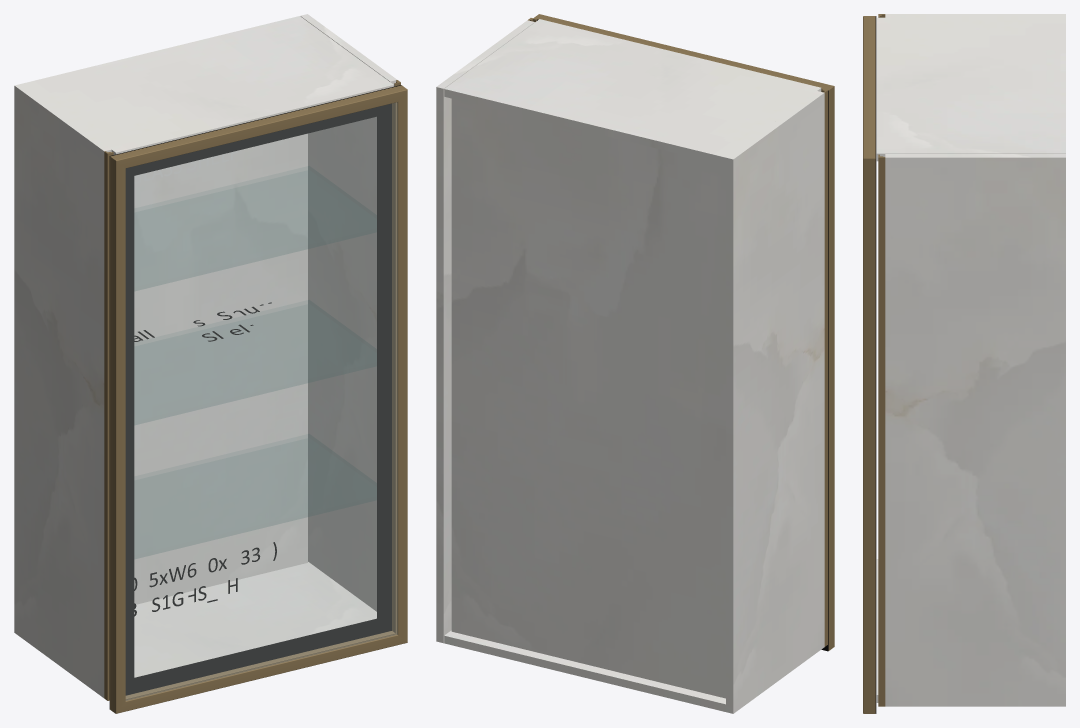
File: WC-SH-NHX-GL-3SG-LHS-XXX-600-1085-336-15.glb
The picture shows the model from 3 angles, left to right: view 1: azimuth 30°, elevation 25°; view 2: azimuth 150°, elevation 25°; view 3: azimuth 270°, elevation 25°; orthographic projection.
Visible parts, largest first — view 1: Object_node_10, TP_node_2, TP_node_0, TP_node_1, Neon 22 Profile ALU PROF NEON 20 L21XH22.5MM 3MTR S2/405 SEC (×4), TP, Object_node_12, TP_node, Object_node_14, 2D text_node; view 2: TP_node_2, TP_node_0, TP, TP_node_1, Neon 22 Profile ALU PROF NEON 20 L21XH22.5MM 3MTR S2/405 SEC (×2), TP_node, Object_node_14; view 3: TP_node_1, TP, Neon 22 Profile ALU PROF NEON 20 L21XH22.5MM 3MTR S2/405 SEC (×2), Object_node_20, Object_node_12, TP_node_0, TP_node.
Part boxes in pixels (x1,y1,x2,y2): Object_node_10: (126, 102, 397, 700); TP_node_2: (134, 133, 307, 604); TP_node_0: (14, 84, 111, 697); TP_node_1: (300, 14, 397, 611); Neon 22 Profile ALU PROF NEON 20 L21XH22.5MM 3MTR S2/405 SEC (×4): (110, 85, 407, 713); TP: (22, 16, 393, 154); Object_node_12: (109, 85, 401, 709); TP_node: (134, 562, 376, 677); Object_node_14: (104, 151, 113, 700); 2D text_node: (134, 542, 276, 590); TP_node_2: (451, 98, 725, 698); TP_node_0: (726, 91, 824, 713); TP: (444, 19, 821, 165); TP_node_1: (436, 20, 534, 643); Neon 22 Profile ALU PROF NEON 20 L21XH22.5MM 3MTR S2/405 SEC (×2): (533, 14, 834, 650); TP_node: (444, 630, 725, 711); Object_node_14: (821, 89, 827, 646); TP_node_1: (885, 154, 1065, 706); TP: (876, 17, 1065, 161); Neon 22 Profile ALU PROF NEON 20 L21XH22.5MM 3MTR S2/405 SEC (×2): (863, 16, 875, 713); Object_node_20: (878, 154, 885, 706); Object_node_12: (875, 16, 876, 713); TP_node_0: (885, 14, 1065, 17); TP_node: (876, 559, 878, 702).
Size of what is drawn, in the model's own units: 0.6 by 1.09 by 0.358.
Materials: 7 (1 with a texture image).
